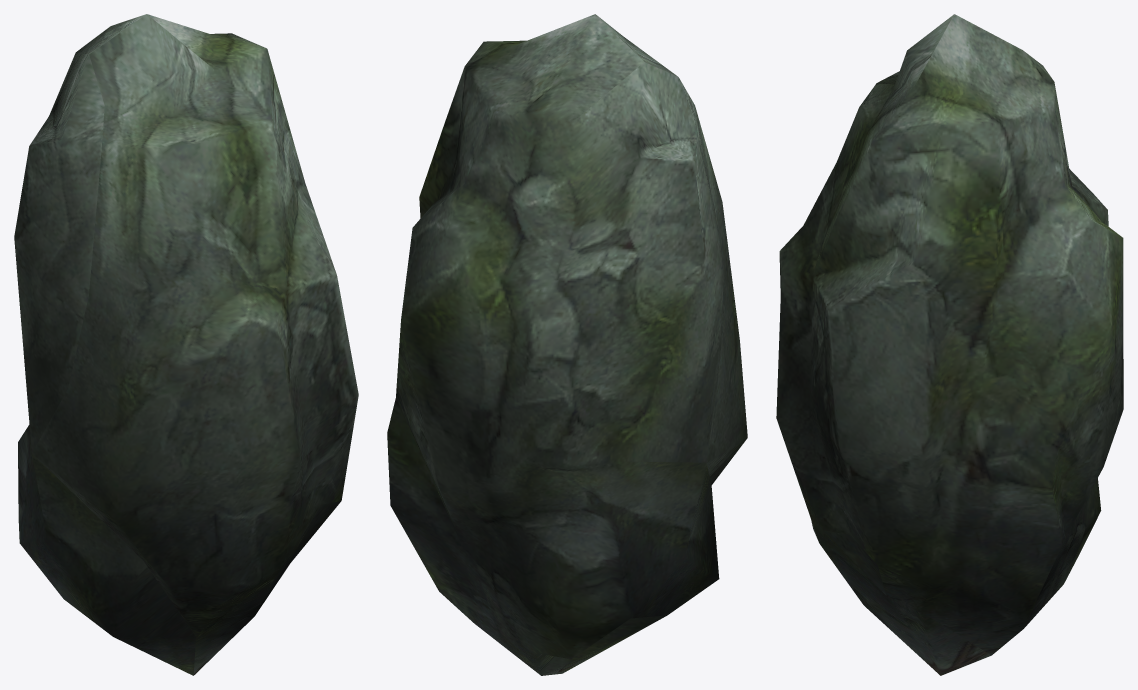
File: cj_luoyang_shitou01_56_14_7527out.fbx
3 renders of one model, left to right at view 1: azimuth 30°, elevation 25°; view 2: azimuth 150°, elevation 25°; view 3: azimuth 270°, elevation 25°, orthographic. The views are drawn at different scales.
Parts seen in each view (by area): view 1: cj_luoyang_shitou01; view 2: cj_luoyang_shitou01; view 3: cj_luoyang_shitou01.
Boxes of the visible parts, bbox=[...] form: cj_luoyang_shitou01: bbox=[14, 14, 358, 675]; cj_luoyang_shitou01: bbox=[387, 14, 747, 675]; cj_luoyang_shitou01: bbox=[776, 14, 1123, 675].
Size of the model in its own units: 3.63 by 7.73 by 3.78.
